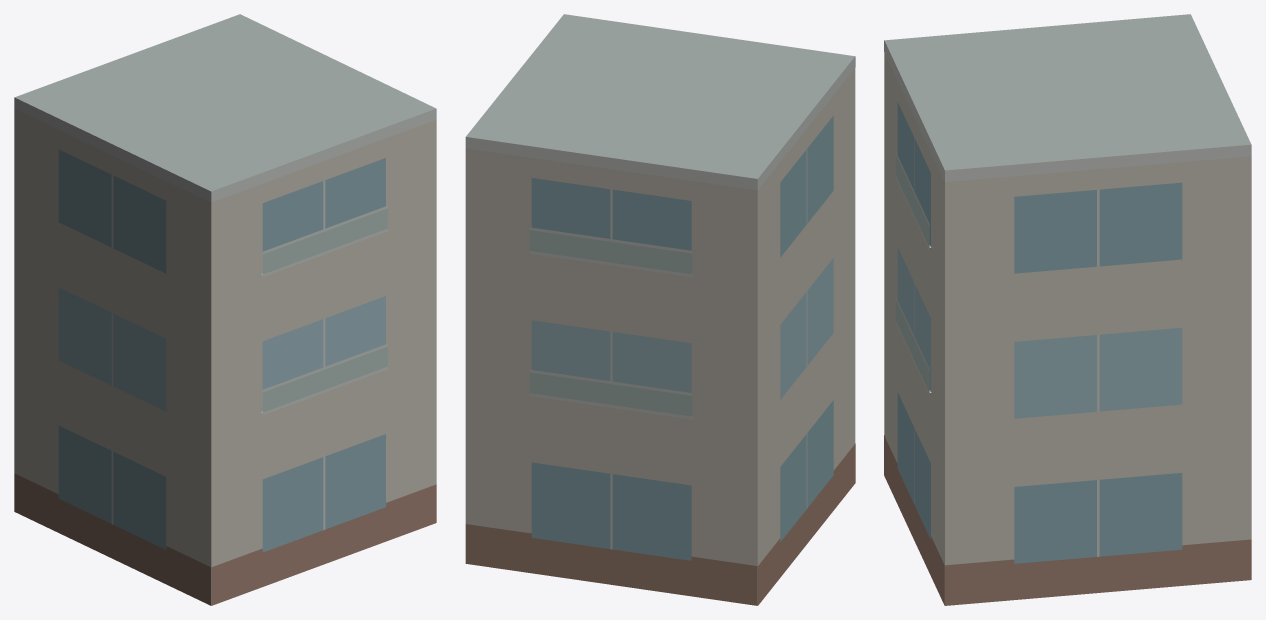
File: survey-upis-32475036.glb
The picture shows the model from 3 angles, left to right: view 1: azimuth 30°, elevation 25°; view 2: azimuth 150°, elevation 25°; view 3: azimuth 270°, elevation 25°; orthographic projection. The views are drawn at different scales.
Parts seen in each view (by area): view 1: survey-upis-32475036.tmp; view 2: survey-upis-32475036.tmp; view 3: survey-upis-32475036.tmp.
Part boxes in pixels (bbox=[...]): survey-upis-32475036.tmp: bbox=[14, 14, 436, 605]; survey-upis-32475036.tmp: bbox=[465, 14, 855, 605]; survey-upis-32475036.tmp: bbox=[884, 14, 1251, 605].
Size of the model in its own units: 7.06 by 9.15 by 7.01.
